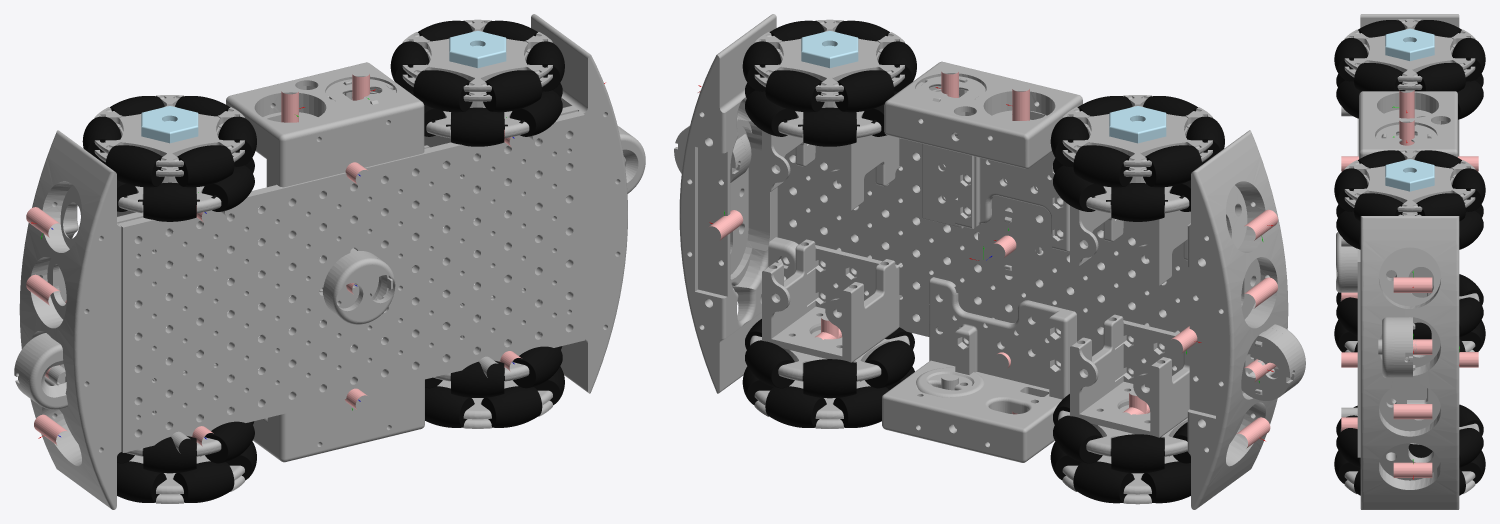
File: roboteil_o.glb
3 views of the same model, side by side, from view 1: azimuth 30°, elevation 25°; view 2: azimuth 150°, elevation 25°; view 3: azimuth 270°, elevation 25° (orthographic). The views are drawn at different scales.
Visible parts, largest first — view 1: CenterPlate Alu, sbFront (×2), sb_center_cont, Roller_copy4 (×8), Roller_copy3 (×6), sbCenter, rim_outer_b (×2), Top (×3), Roller_copy5 (×4), Wheel-Hub-Cup (×2), Base (×3), Roller_copy2 (×2) (+4 smaller); view 2: sbFront (×2), CenterPlate Alu, HolderBase (×4), sbCenter, sb_center_cont, Roller_copy1 (×8), Roller_copy6 (×8), rim_outer_b (×2), Base (×4), Roller_copy2 (×2), Wheel-Hub-Cup (×2), Roller_copy5 (×3) (+6 smaller); view 3: sbFront (×2), rim_outer_b (×2), sb_center_cont, Roller_copy6 (×6), Roller_copy1 (×6), Roller_copy4 (×6), Base (×3), Wheel-Hub-Cup (×2), Roller_copy3 (×4), Roller_copy5 (×2), Roller_copy2 (×4), Top (×2) (+10 smaller).
Part boxes in pixels (x1=…): CenterPlate Alu: x1=118, y1=111, x2=584, y2=452; sbFront (×2): x1=19, y1=14, x2=627, y2=509; sb_center_cont: x1=226, y1=62, x2=429, y2=265; Roller_copy4 (×8): x1=143, y1=70, x2=562, y2=502; Roller_copy3 (×6): x1=105, y1=70, x2=562, y2=463; sbCenter: x1=253, y1=331, x2=424, y2=462; rim_outer_b (×2): x1=94, y1=19, x2=552, y2=167; Top (×3): x1=25, y1=131, x2=645, y2=409; Roller_copy5 (×4): x1=117, y1=41, x2=564, y2=502; Wheel-Hub-Cup (×2): x1=141, y1=30, x2=506, y2=143; Base (×3): x1=14, y1=79, x2=396, y2=400; Roller_copy2 (×2): x1=82, y1=41, x2=429, y2=164; sbFront (×2): x1=679, y1=14, x2=1288, y2=509; CenterPlate Alu: x1=777, y1=138, x2=1189, y2=375; HolderBase (×4): x1=762, y1=130, x2=1190, y2=437; sbCenter: x1=882, y1=277, x2=1076, y2=462; sb_center_cont: x1=884, y1=61, x2=1082, y2=252; Roller_copy1 (×8): x1=745, y1=70, x2=1164, y2=503; Roller_copy6 (×8): x1=742, y1=41, x2=1190, y2=503; rim_outer_b (×2): x1=754, y1=19, x2=1212, y2=167; Base (×4): x1=674, y1=76, x2=1304, y2=400; Roller_copy2 (×2): x1=835, y1=70, x2=1202, y2=187; Wheel-Hub-Cup (×2): x1=801, y1=30, x2=1166, y2=143; Roller_copy5 (×3): x1=769, y1=20, x2=1132, y2=388; sbFront (×2): x1=1360, y1=14, x2=1459, y2=509; rim_outer_b (×2): x1=1344, y1=19, x2=1475, y2=212; sb_center_cont: x1=1359, y1=91, x2=1457, y2=159; Roller_copy6 (×6): x1=1414, y1=63, x2=1483, y2=435; Roller_copy1 (×6): x1=1452, y1=38, x2=1485, y2=483; Roller_copy4 (×6): x1=1334, y1=38, x2=1367, y2=483; Base (×3): x1=1342, y1=124, x2=1436, y2=377; Wheel-Hub-Cup (×2): x1=1385, y1=28, x2=1434, y2=191; Roller_copy3 (×4): x1=1336, y1=20, x2=1405, y2=467; Roller_copy5 (×2): x1=1354, y1=63, x2=1405, y2=221; Roller_copy2 (×4): x1=1408, y1=20, x2=1461, y2=457; Top (×2): x1=1336, y1=232, x2=1415, y2=377.
Size of the model in its own units: 400 by 225 by 97.98.
